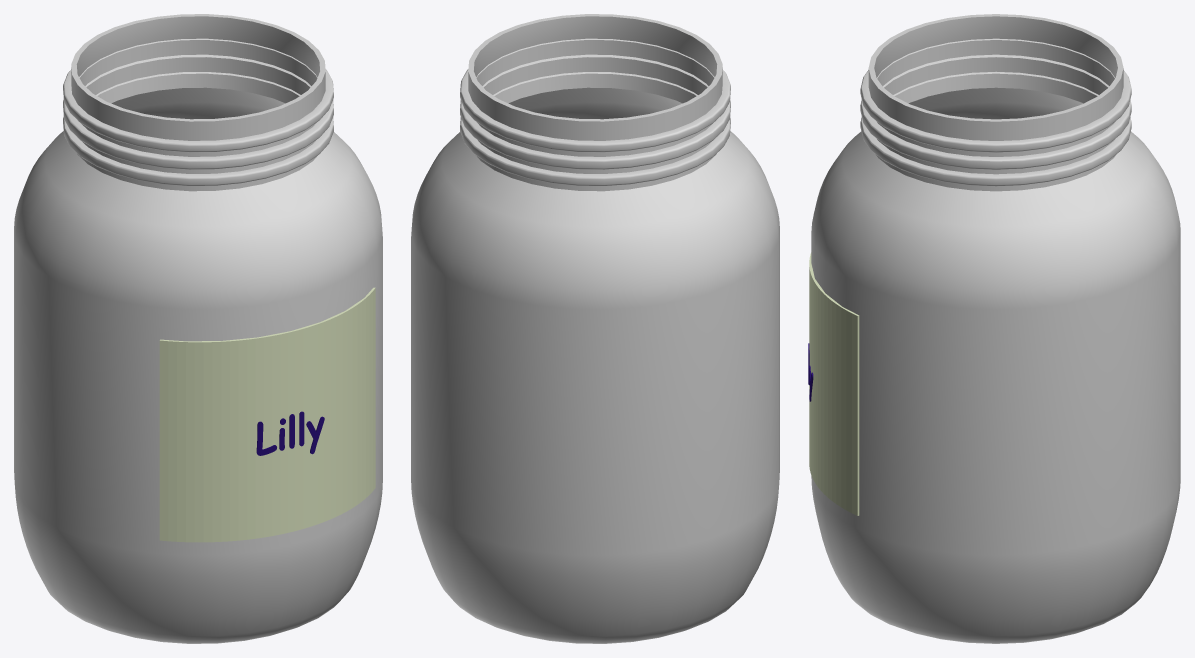
File: Jar_Lilly.fbx
3 views of the same model, side by side, from view 1: azimuth 30°, elevation 25°; view 2: azimuth 150°, elevation 25°; view 3: azimuth 270°, elevation 25° (orthographic).
Parts seen in each view (by area): view 1: Jar_Lilly; view 2: Jar_Lilly; view 3: Jar_Lilly.
Boxes of the visible parts, x1,y1,x2,y2 form: Jar_Lilly: (14, 14, 382, 643); Jar_Lilly: (411, 14, 779, 643); Jar_Lilly: (808, 14, 1180, 643).
Size of the model in its own units: 25.69 by 39.71 by 25.91.
